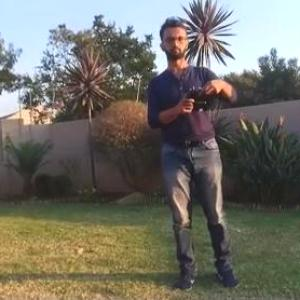follow: (143, 10, 245, 291)
